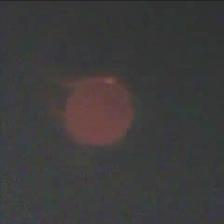fertile: (57, 72, 138, 152)
